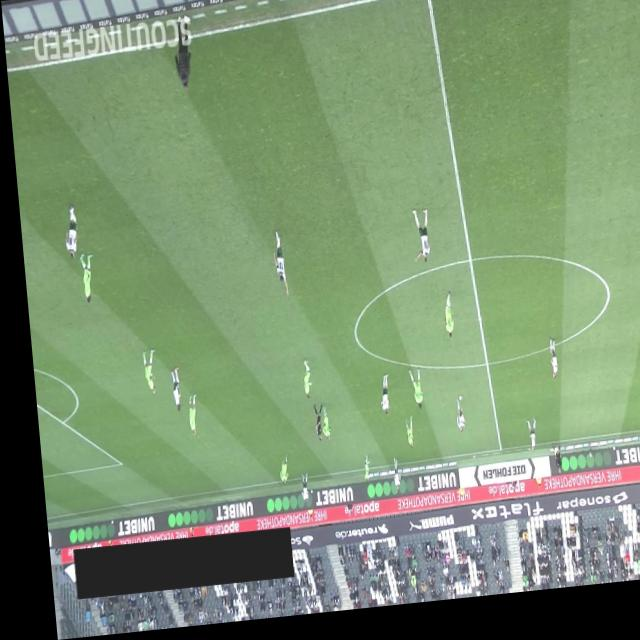player: (404, 216, 426, 272), (265, 234, 281, 301), (57, 205, 74, 261), (74, 253, 90, 304), (134, 351, 150, 398), (434, 299, 448, 347), (400, 375, 415, 418), (370, 380, 383, 423), (162, 369, 174, 414), (178, 396, 190, 439), (539, 347, 550, 391), (293, 363, 304, 405), (311, 408, 322, 447), (516, 428, 528, 463), (268, 458, 280, 491), (446, 403, 456, 442), (381, 464, 392, 499), (289, 477, 299, 509), (396, 422, 405, 456), (353, 461, 361, 489)
referee: (304, 409, 316, 448), (541, 455, 552, 484)
